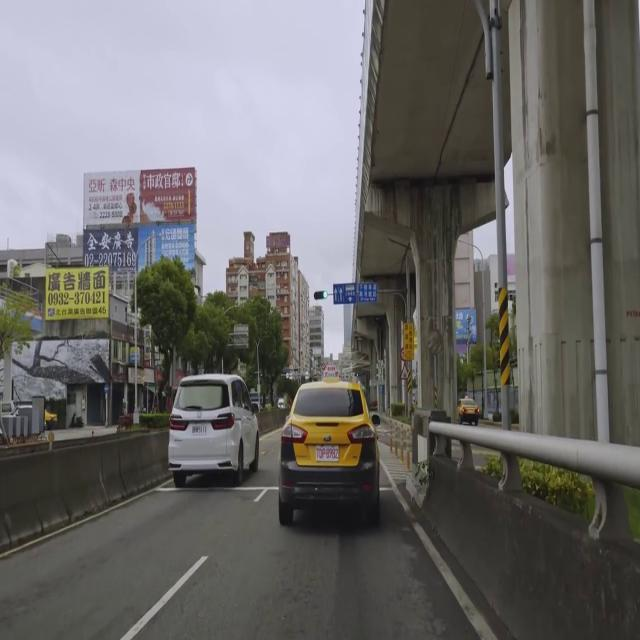green light: (313, 290, 328, 300)
